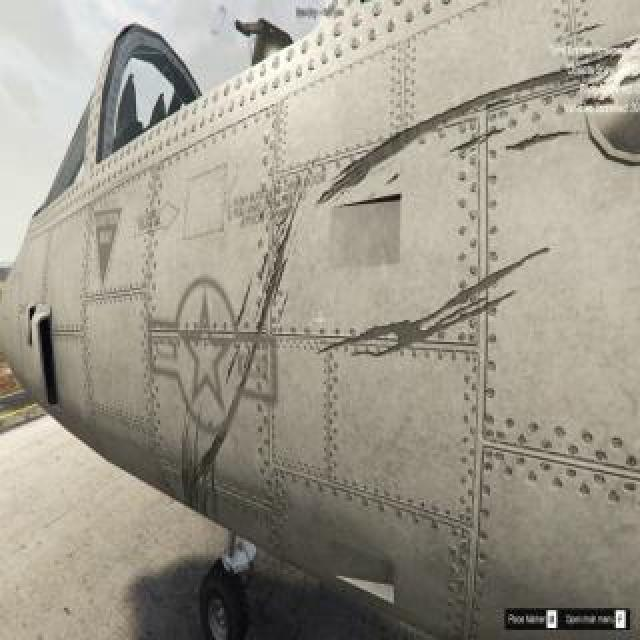dent: (374, 312, 432, 358)
